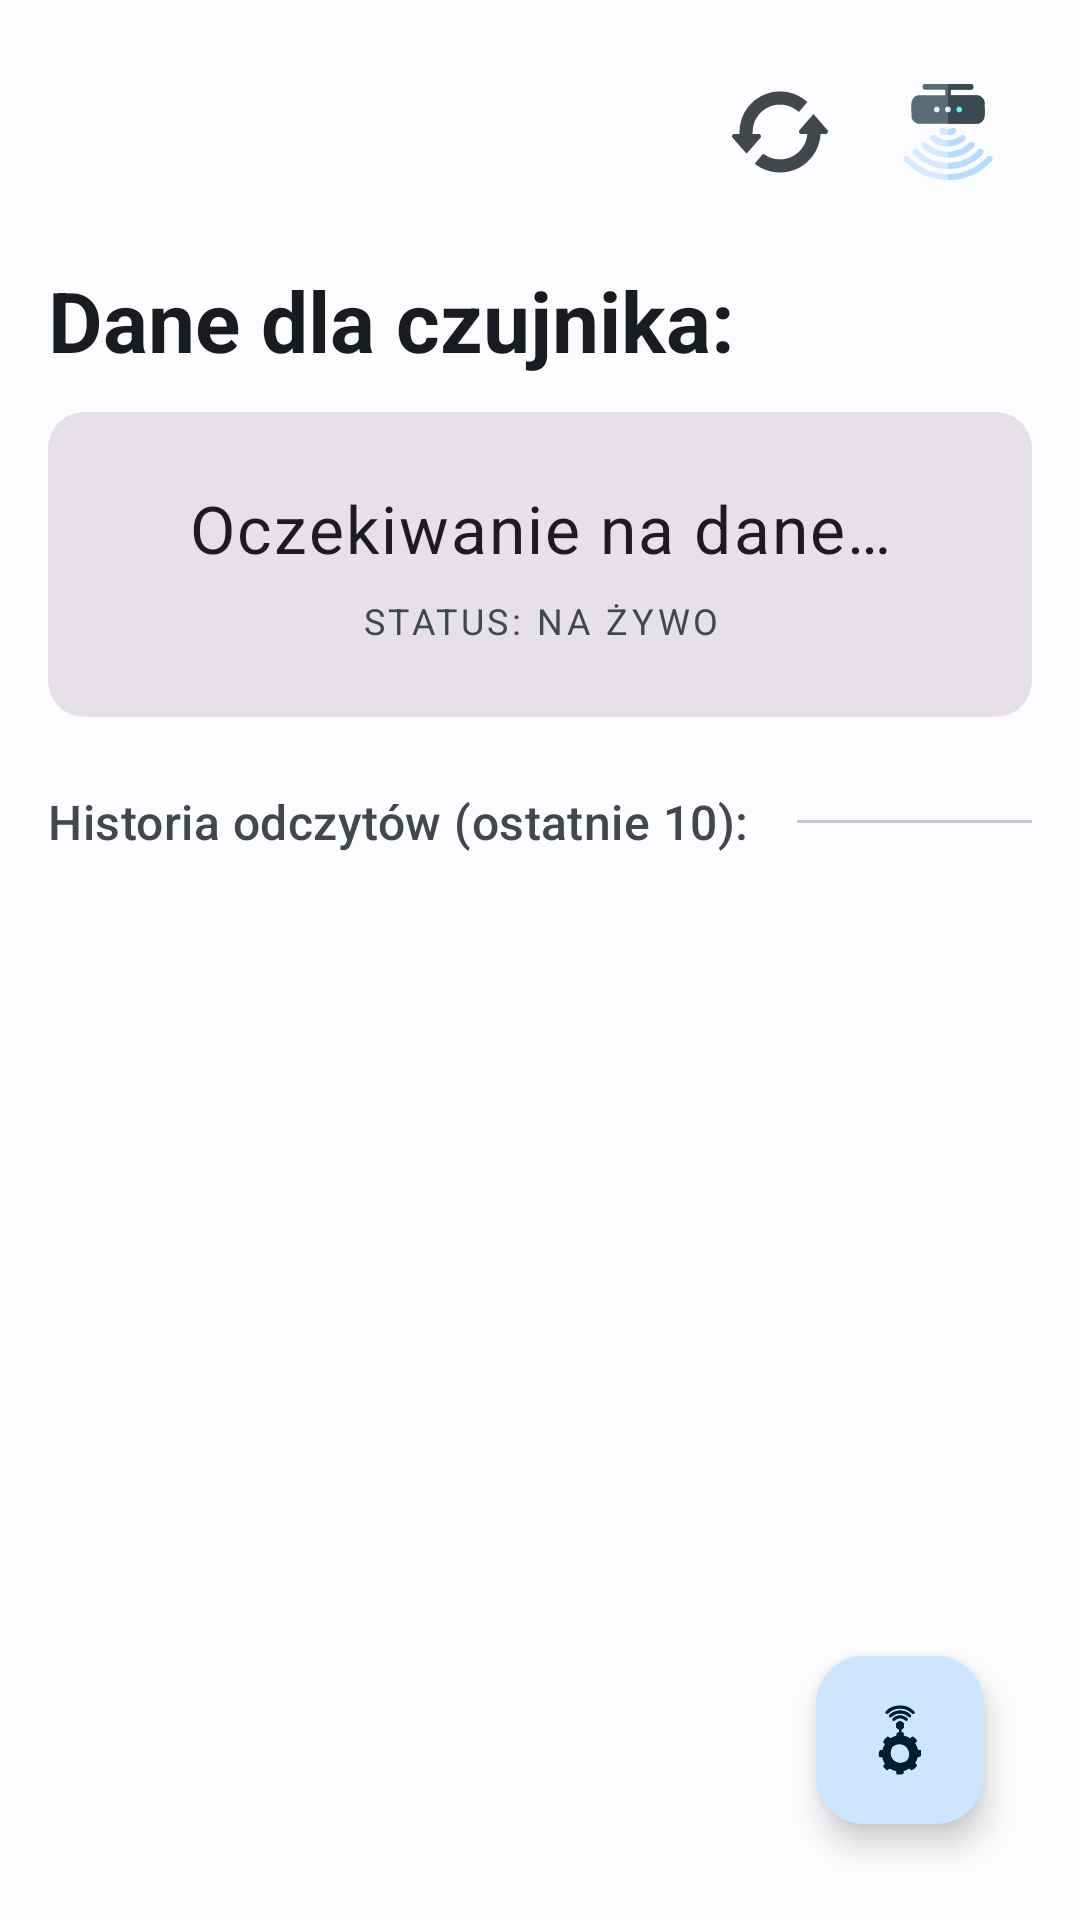

Icons on this 1080px x 1920px Android screen, each with its box as box=[x1, y1, x2, y2]:
Odśwież: box=[732, 91, 828, 173]
Ustawienia: box=[816, 1656, 984, 1824]
